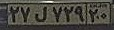character: (33, 3, 50, 25), (73, 3, 87, 24), (50, 3, 63, 24), (20, 4, 33, 24), (63, 3, 74, 25), (9, 4, 20, 24), (88, 8, 101, 24), (100, 11, 108, 21)
